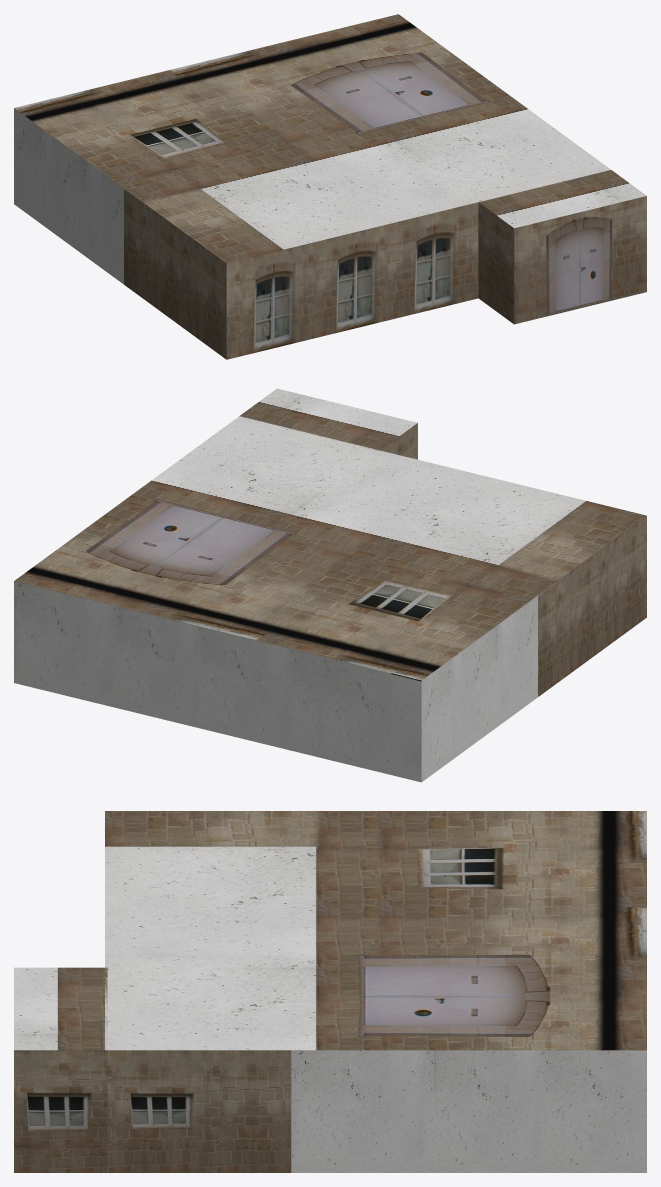
Rendered from 1er piso.FBX.
3 renders of one model, top to bottom at view 1: azimuth 30°, elevation 25°; view 2: azimuth 150°, elevation 25°; view 3: azimuth 270°, elevation 25°, orthographic. The views are drawn at different scales.
Visible parts, largest first — view 1: 1er piso; view 2: 1er piso; view 3: 1er piso.
Boxes of the visible parts, x1,y1,x2,y2 form: 1er piso: (14,14,646,359); 1er piso: (14,388,646,782); 1er piso: (14,811,646,1172).
Bounding box in the file's own units: 164 × 39.13 × 183.
Materials: 1 (1 with a texture image).
